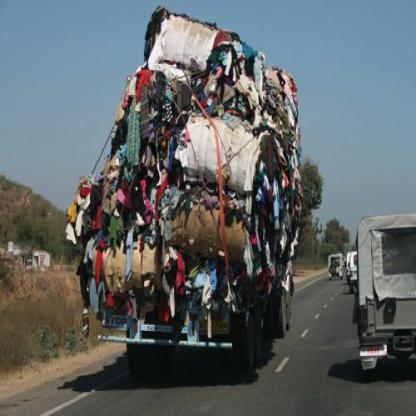overloaded-truck: (66, 7, 302, 336)
